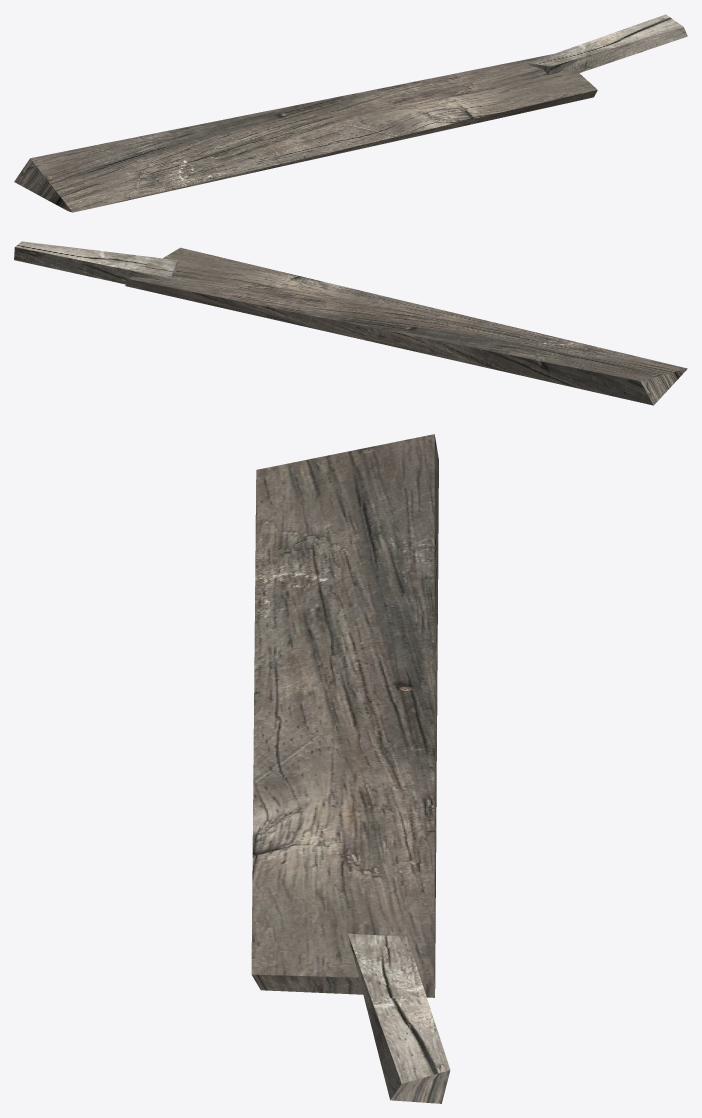
Rendered from sc_drift_plank.glb.
3 renders of one model, top to bottom at view 1: azimuth 30°, elevation 25°; view 2: azimuth 150°, elevation 25°; view 3: azimuth 270°, elevation 25°, orthographic. The views are drawn at different scales.
Parts seen in each view (by area): view 1: sc_drift_plank; view 2: sc_drift_plank; view 3: sc_drift_plank.
Boxes of the visible parts, x1,y1,x2,y2 form: sc_drift_plank: [14, 14, 687, 212]; sc_drift_plank: [14, 241, 687, 405]; sc_drift_plank: [251, 434, 450, 1103].
Bounding box in the file's own units: 1.57 × 0.0751 × 0.2107.
1 material, 1 textured.
